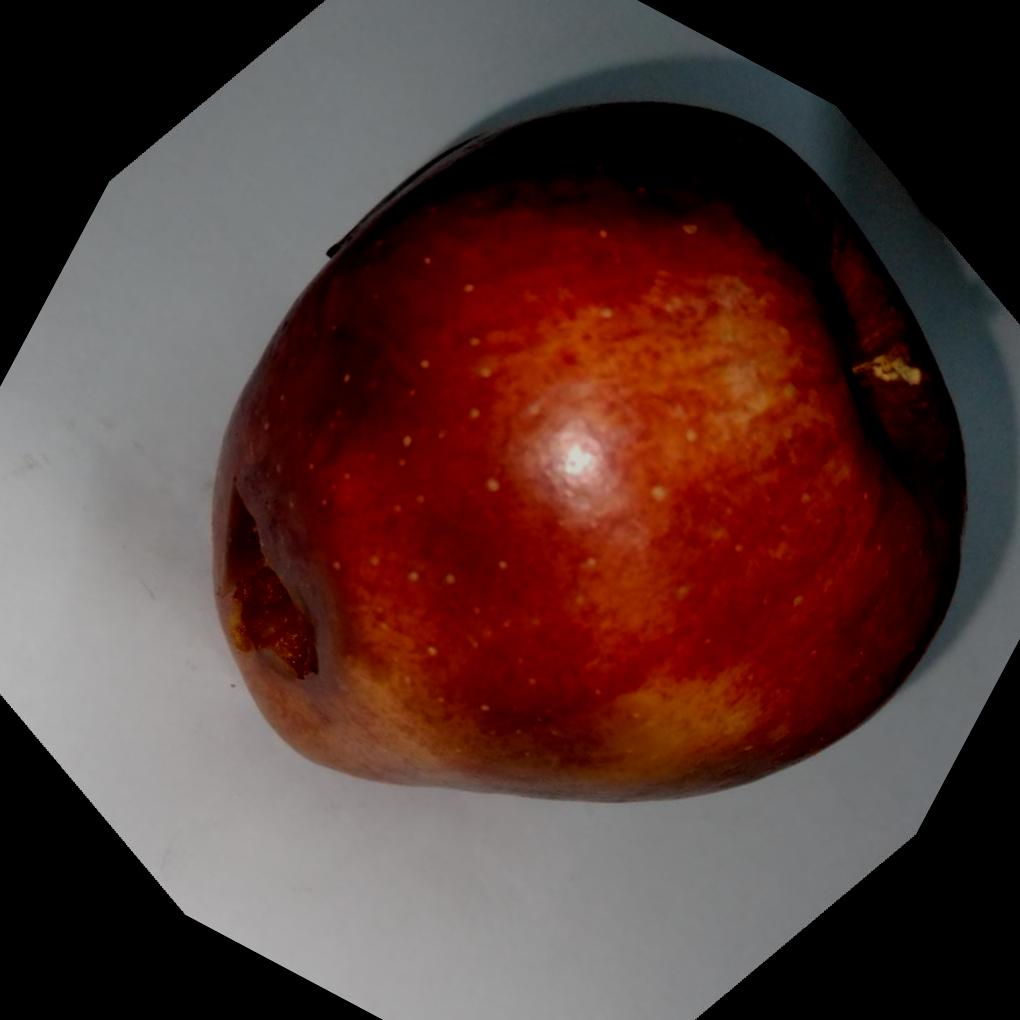FreshOrange: (208, 95, 967, 802)
